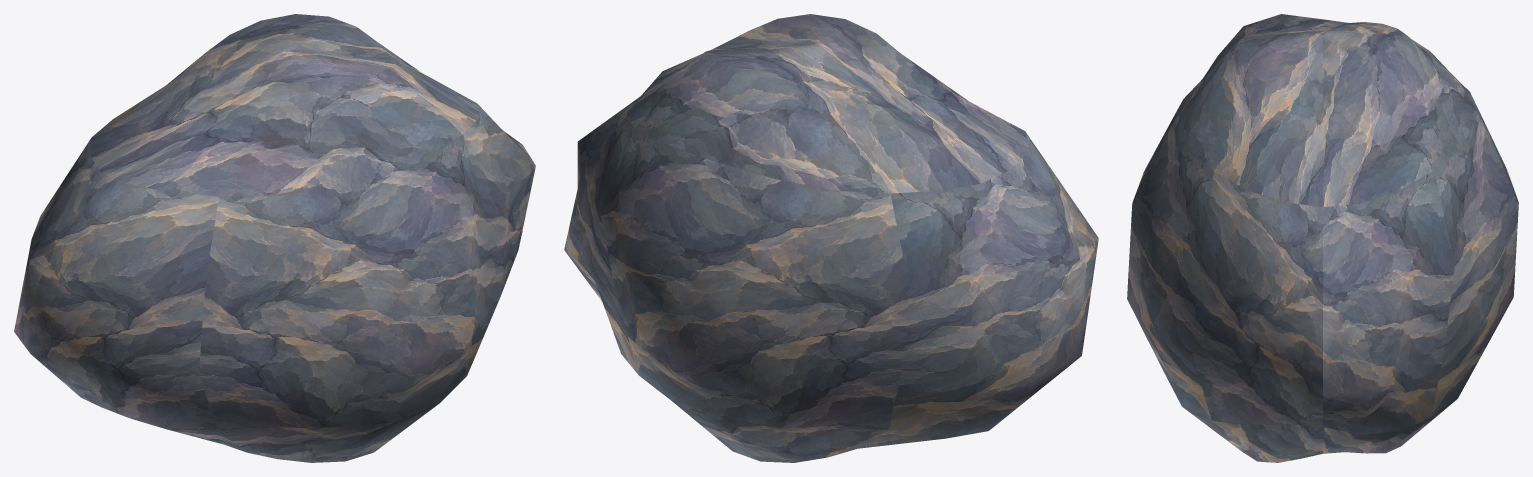
The model's file is NaturalRock_07.fbx.
3 views of the same model, side by side, from view 1: azimuth 30°, elevation 25°; view 2: azimuth 150°, elevation 25°; view 3: azimuth 270°, elevation 25° (orthographic). The views are drawn at different scales.
Visible parts, largest first — view 1: NaturalRock_07.001; view 2: NaturalRock_07.001; view 3: NaturalRock_07.001.
Boxes of the visible parts, x1,y1,x2,y2 form: NaturalRock_07.001: (14, 14, 535, 462); NaturalRock_07.001: (564, 14, 1098, 462); NaturalRock_07.001: (1127, 14, 1518, 462).
Bounding box in the file's own units: 390 × 295 × 262.
Materials: 1 (1 with a texture image).
